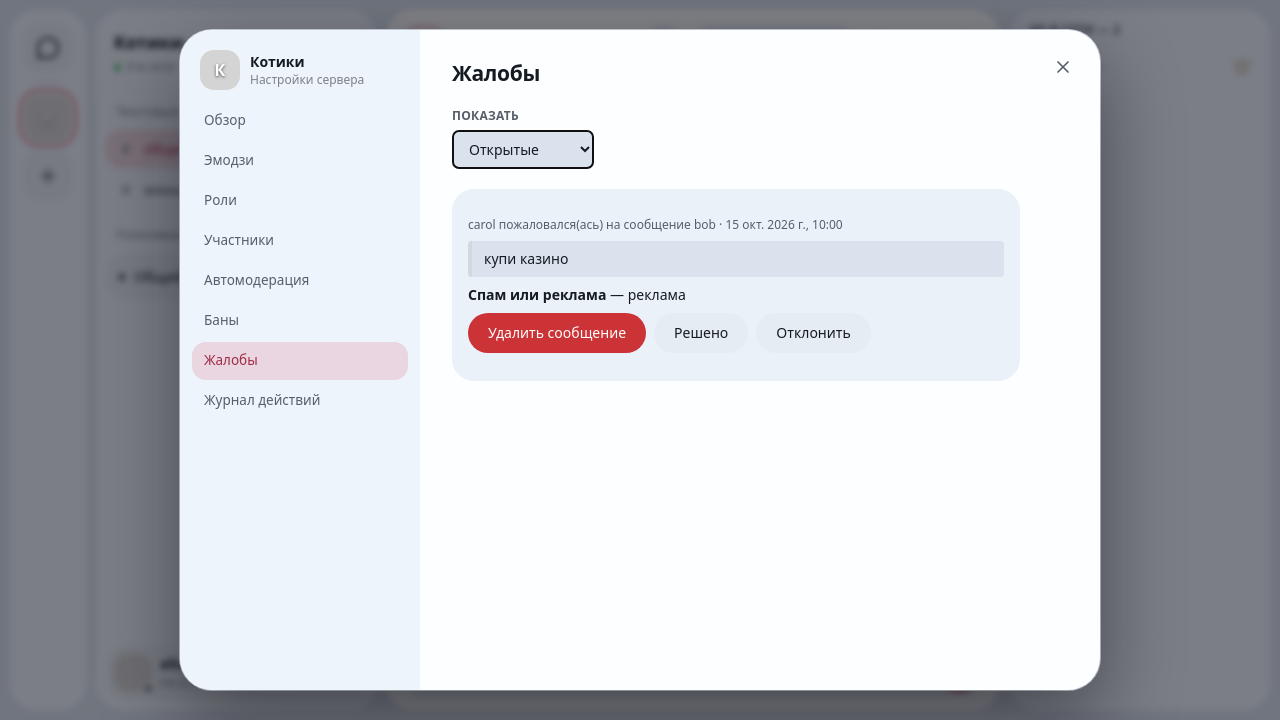
handling reports › lets moderators delete the message and close the report
Check: the text "купи казино" is shown, box 468,241 -> 1004,277
Check: the text "Спам или реклама" is shown, box 468,285 -> 606,304
Click the button "Удалить сообщение". click: point(557, 333)
box: 468,313 -> 646,353
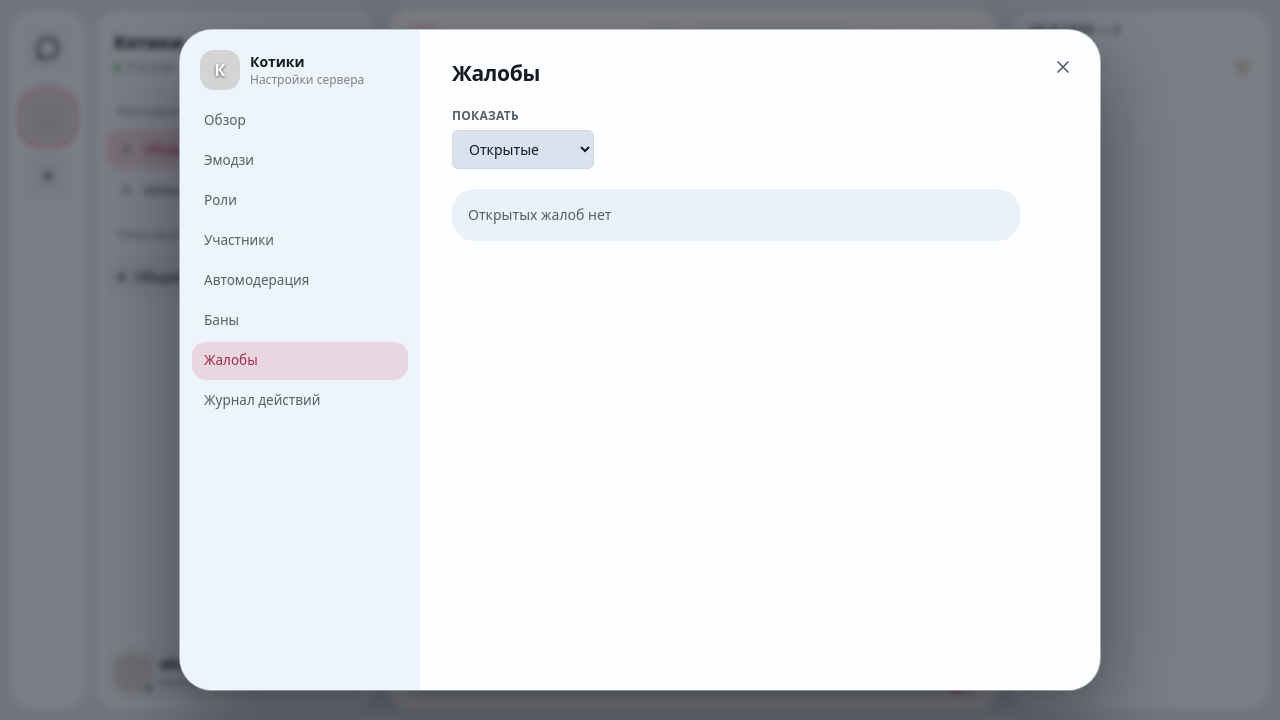
Check: the text "Открытых жалоб нет" is shown, box 468,205 -> 612,224
